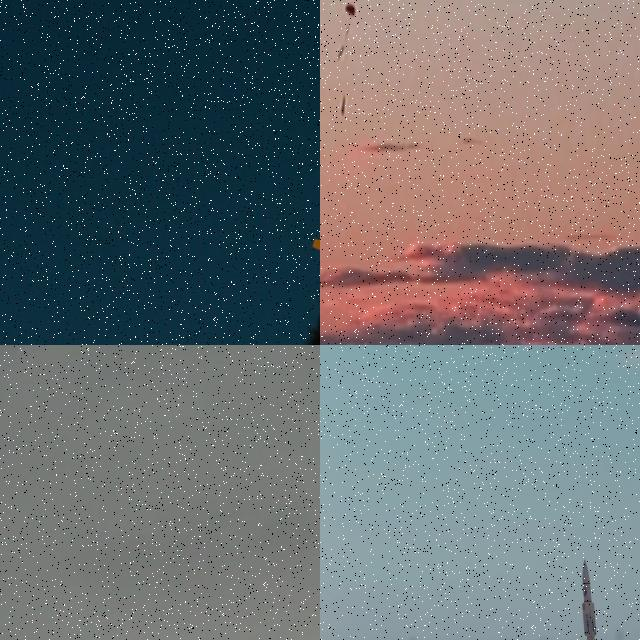Rocket: (572, 558, 612, 640), (341, 96, 345, 115)
